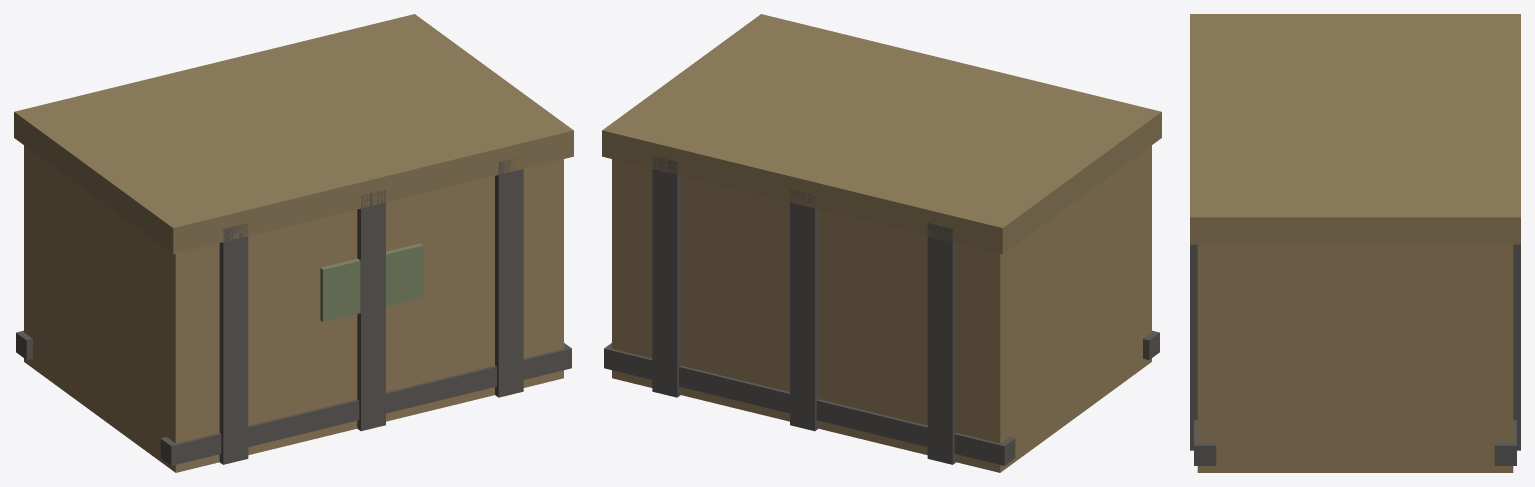
Rendered from yard_crate.glb.
The picture shows the model from 3 angles, left to right: view 1: azimuth 30°, elevation 25°; view 2: azimuth 150°, elevation 25°; view 3: azimuth 270°, elevation 25°; orthographic projection. The views are drawn at different scales.
Parts seen in each view (by area): view 1: CrateBody, CrateLid, CrateRail_s, CrateStrap_0, CrateStrap_2, CrateStrap_1, CrateMark; view 2: CrateBody, CrateLid, CrateRail_n, CrateStrap_0, CrateStrap_2, CrateStrap_1; view 3: CrateLid, CrateBody, CrateStrap_2, CrateRail_n, CrateRail_s.
Part boxes in pixels (x1,y1,x2,y2): CrateBody: (24, 145, 563, 472); CrateLid: (14, 14, 573, 254); CrateRail_s: (160, 343, 571, 465); CrateStrap_0: (219, 223, 248, 464); CrateStrap_2: (495, 158, 523, 397); CrateStrap_1: (357, 190, 385, 431); CrateMark: (320, 243, 423, 322); CrateBody: (612, 145, 1151, 472); CrateLid: (602, 14, 1161, 254); CrateRail_n: (604, 343, 1015, 465); CrateStrap_0: (927, 223, 956, 464); CrateStrap_2: (652, 156, 680, 397); CrateStrap_1: (790, 190, 818, 431); CrateLid: (1190, 14, 1520, 244); CrateBody: (1197, 244, 1513, 472); CrateStrap_2: (1190, 244, 1520, 450); CrateRail_n: (1494, 420, 1516, 465); CrateRail_s: (1194, 420, 1216, 465).
Size of the model in its own units: 0.64 by 0.38 by 0.44.
